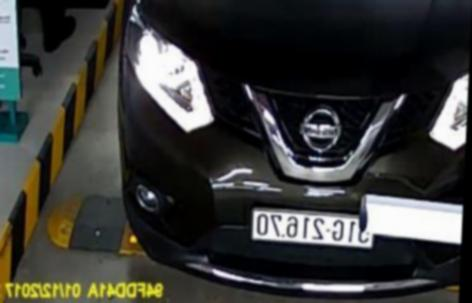License_Plate: (248, 213, 373, 246)
